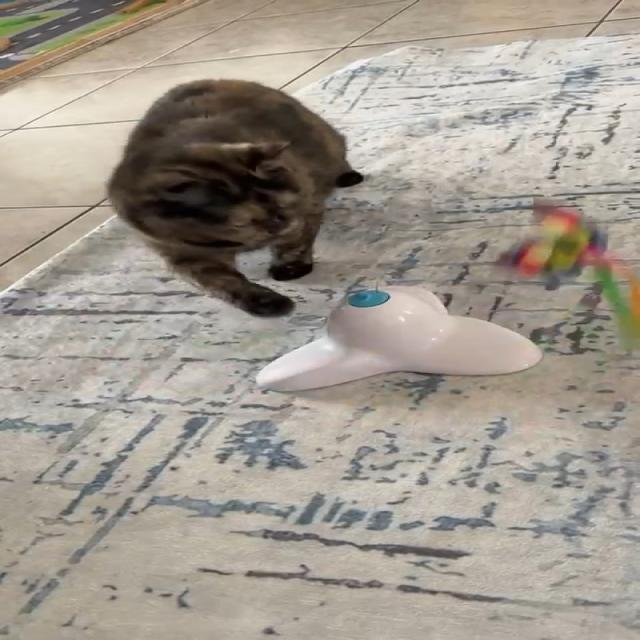authorized: (105, 77, 364, 318)
